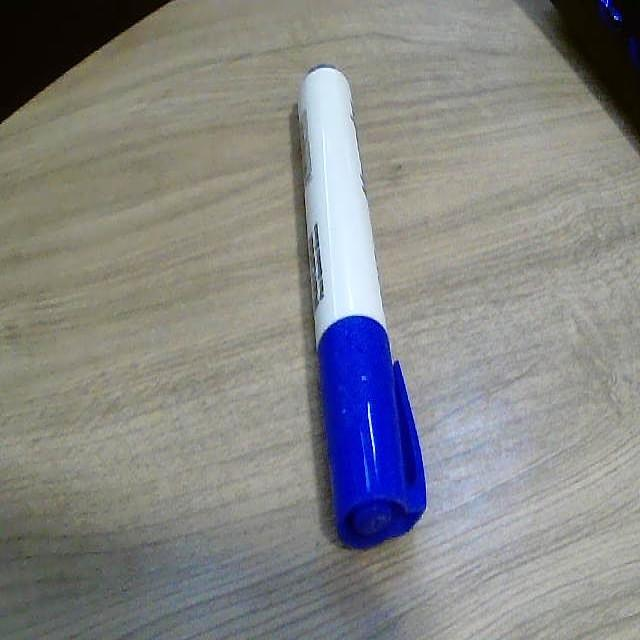caneta: (291, 61, 433, 546)
